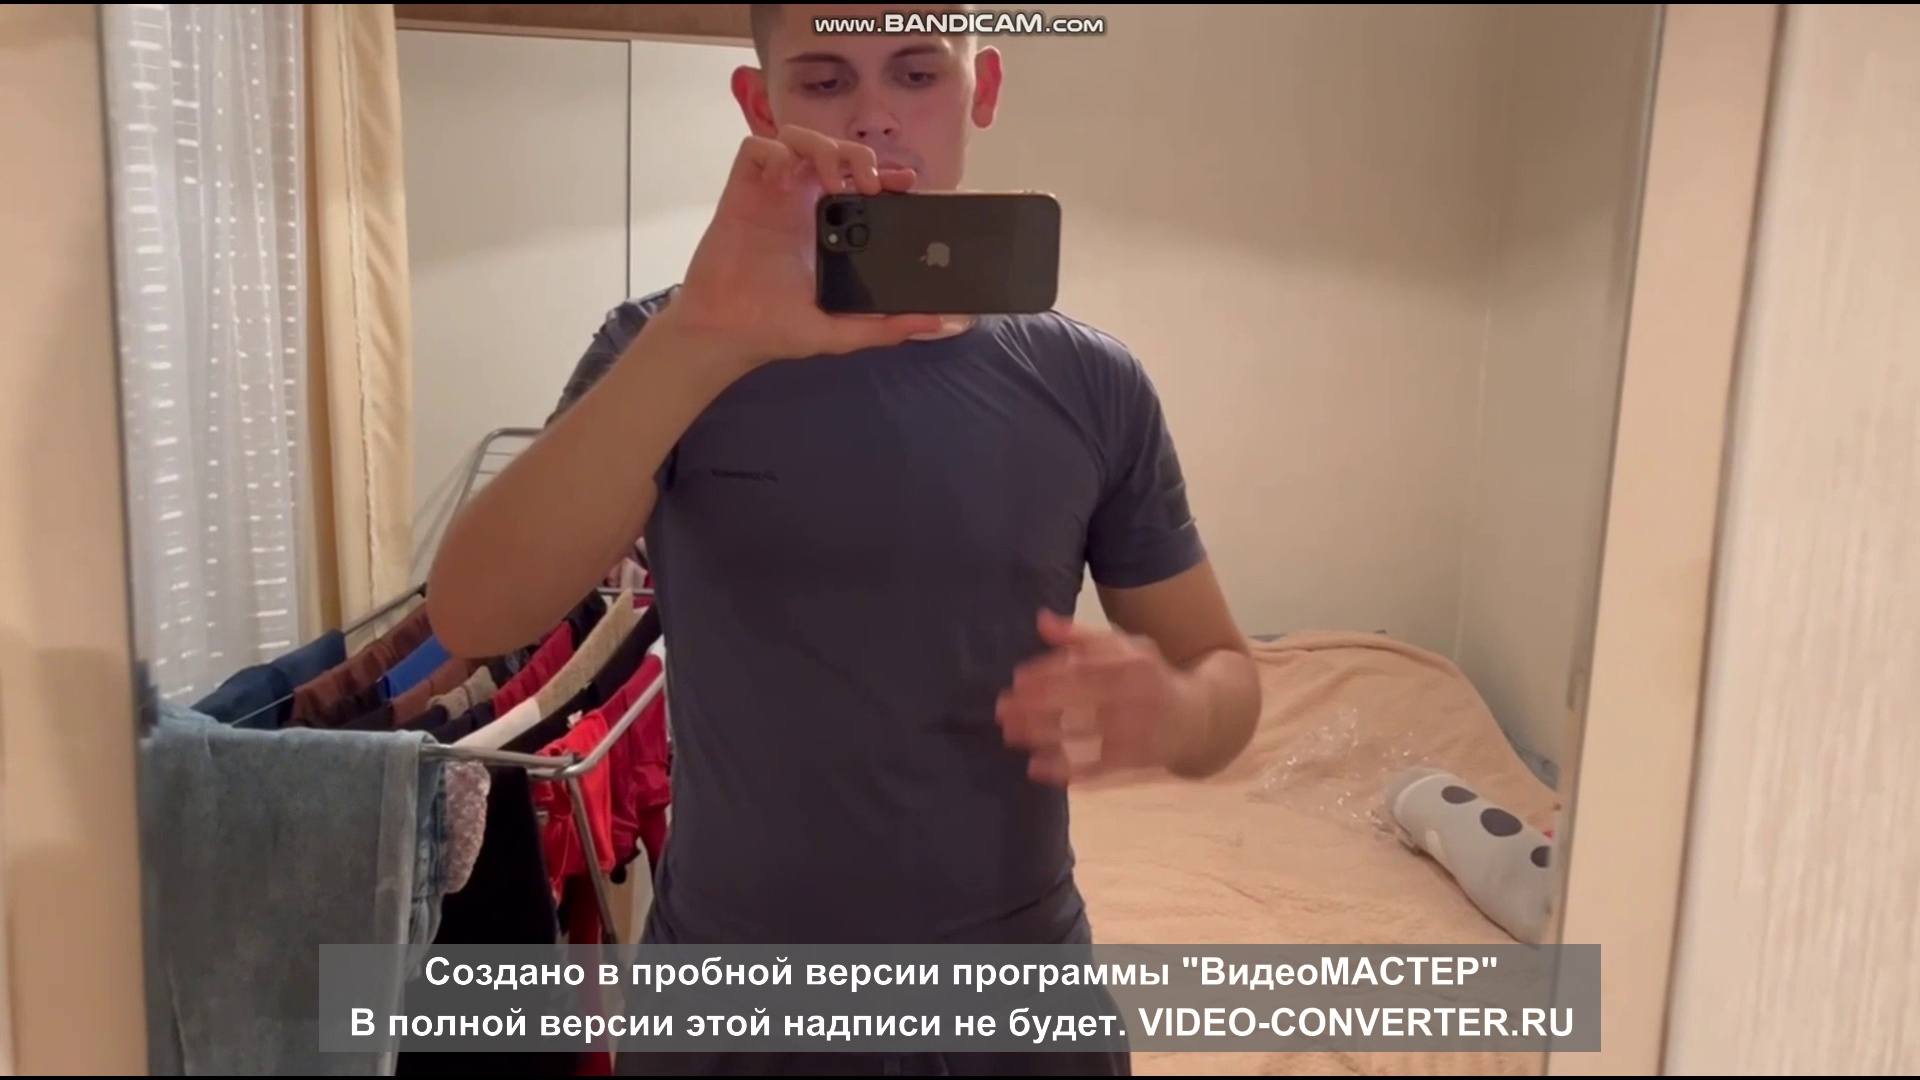Кисть: (997, 607, 1187, 786)
